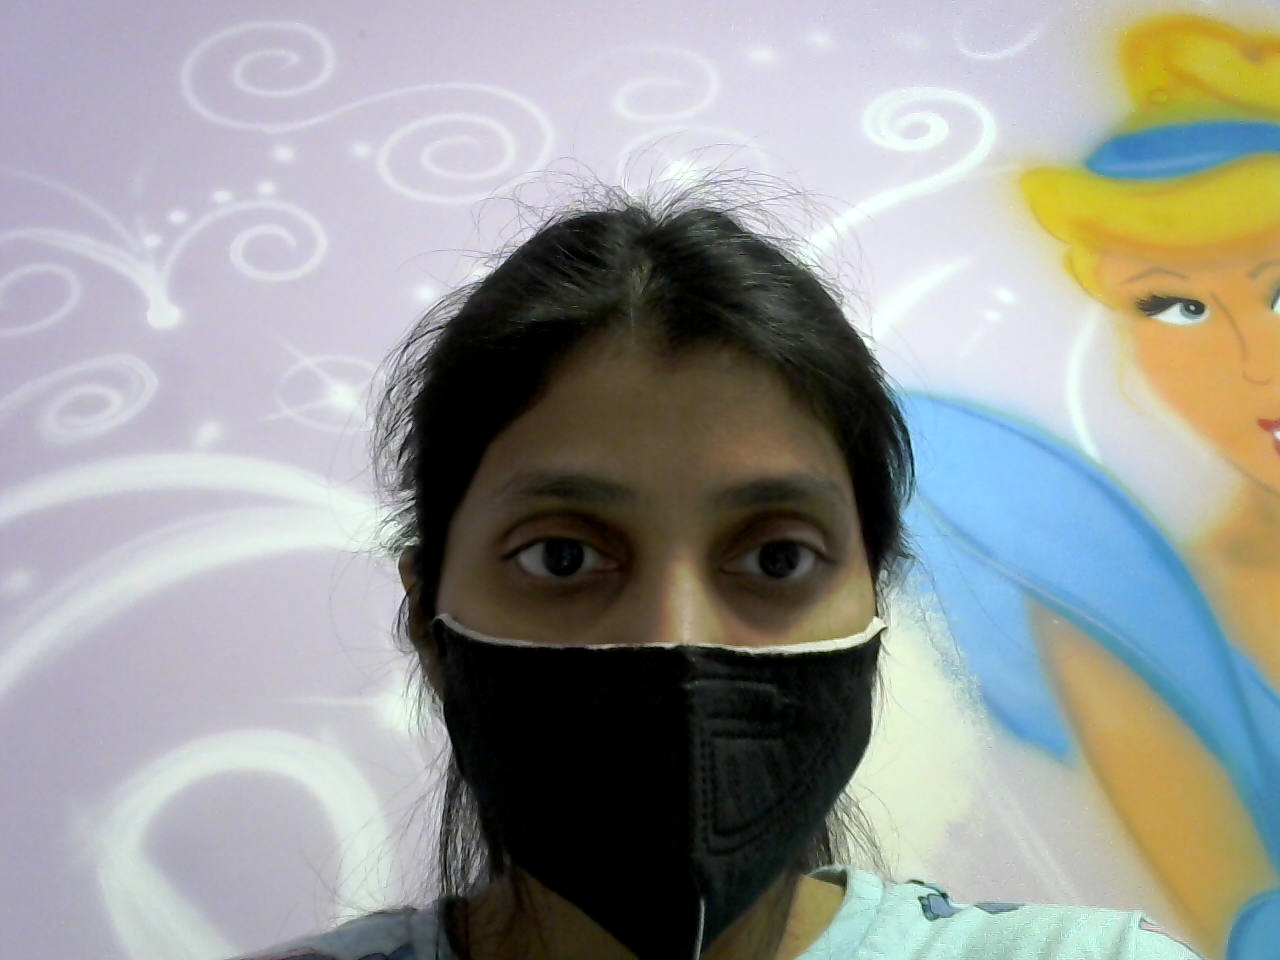mask: (393, 605, 901, 959)
